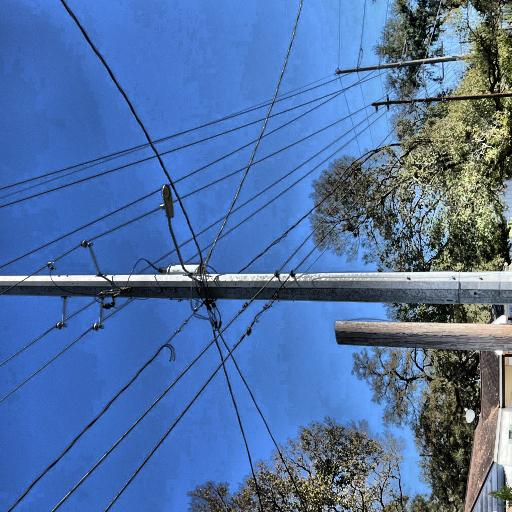pole: (79, 0, 121, 512)
street light: (108, 290, 192, 334)
transformer: (102, 298, 122, 343)
